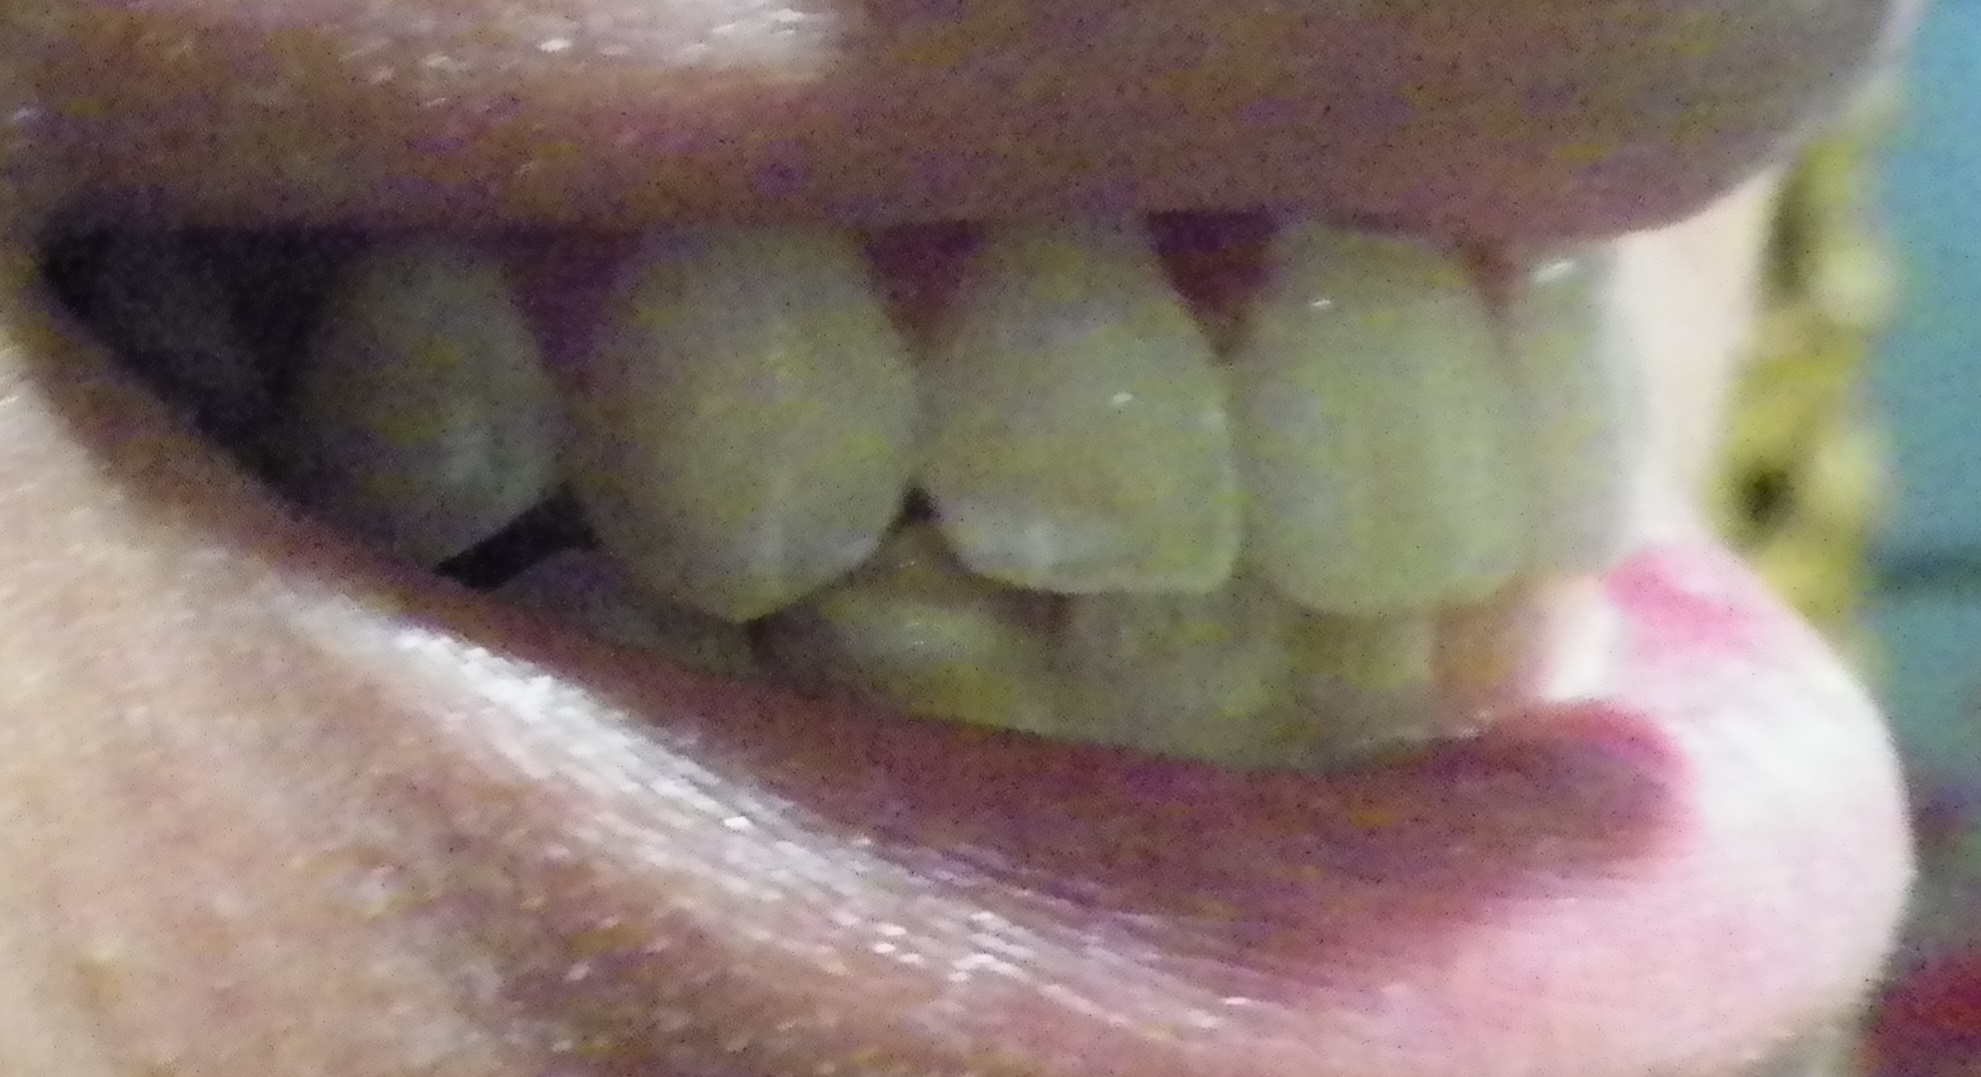boca: (97, 251, 1653, 727)
